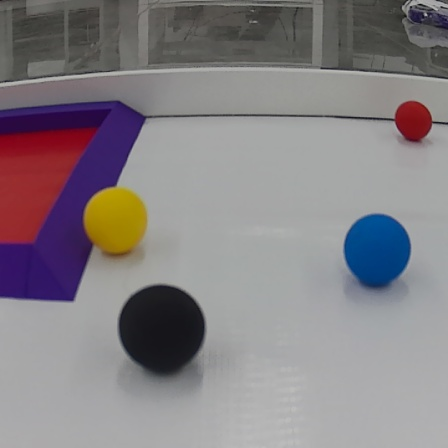black: (114, 280, 207, 375)
blue: (344, 214, 413, 289)
red: (390, 98, 442, 143)
red_aim: (0, 99, 150, 309)
yellow: (86, 186, 150, 262)
